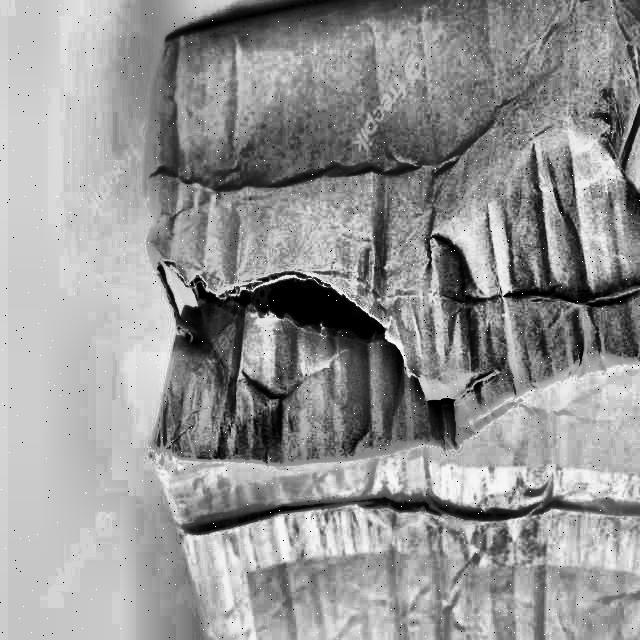box: (135, 0, 640, 640)
hole: (165, 215, 441, 391)
